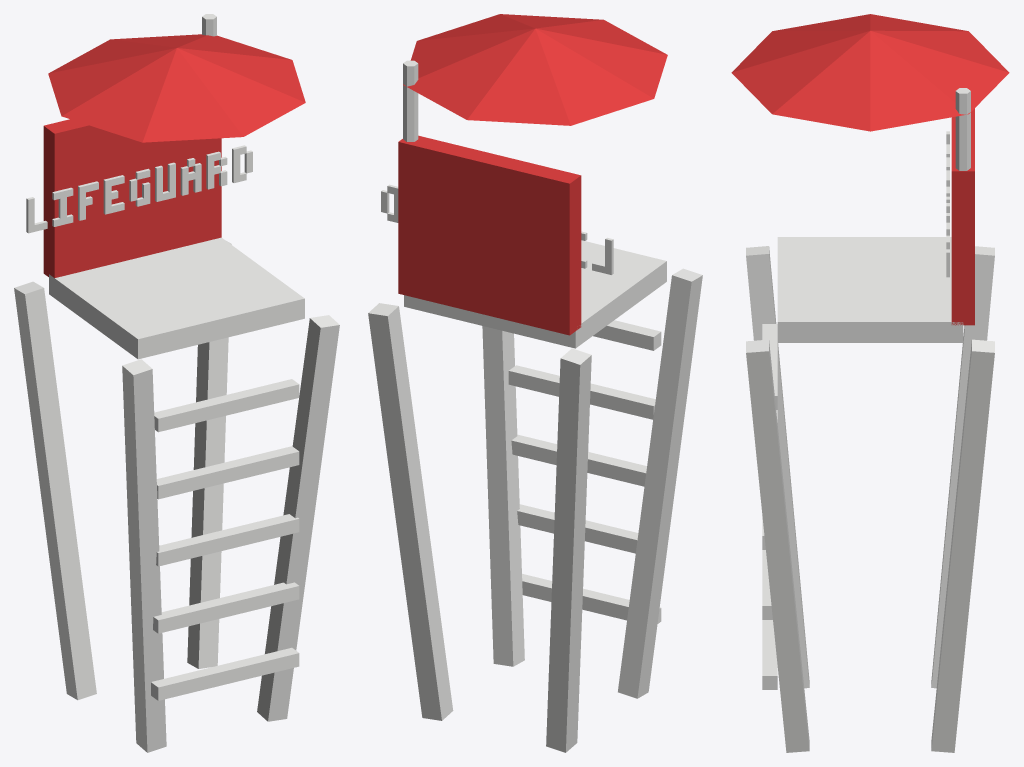
The model's file is LifeguardChair.fbx.
3 views of the same model, side by side, from view 1: azimuth 30°, elevation 25°; view 2: azimuth 150°, elevation 25°; view 3: azimuth 270°, elevation 25° (orthographic). The views are drawn at different scales.
Visible parts, largest first — view 1: LifeguardChair; view 2: LifeguardChair; view 3: LifeguardChair.
Boxes of the visible parts, box(x1,y1,x2,y2) form: LifeguardChair: box(14, 14, 339, 752); LifeguardChair: box(368, 14, 702, 752); LifeguardChair: box(731, 14, 1009, 752).
Size of the model in its own units: 3.6 by 9.8 by 3.6.
Materials: 1 (1 with a texture image).
